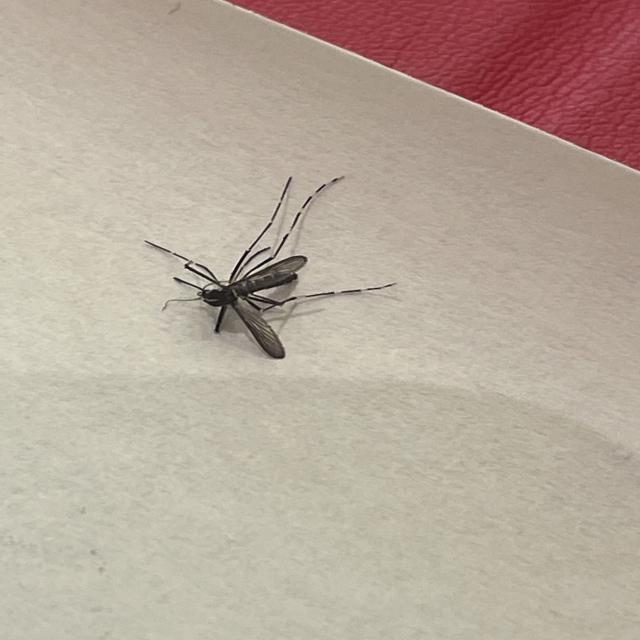albopictus: (135, 165, 397, 362)
